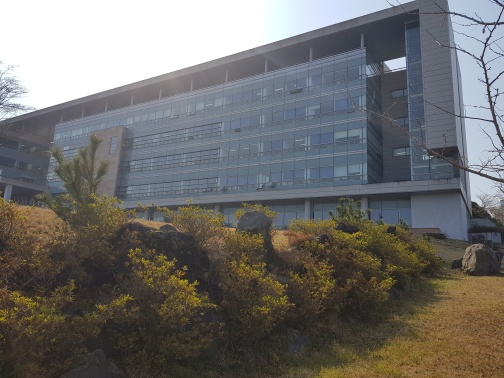Engineering College Building 4: (7, 27, 463, 237)
